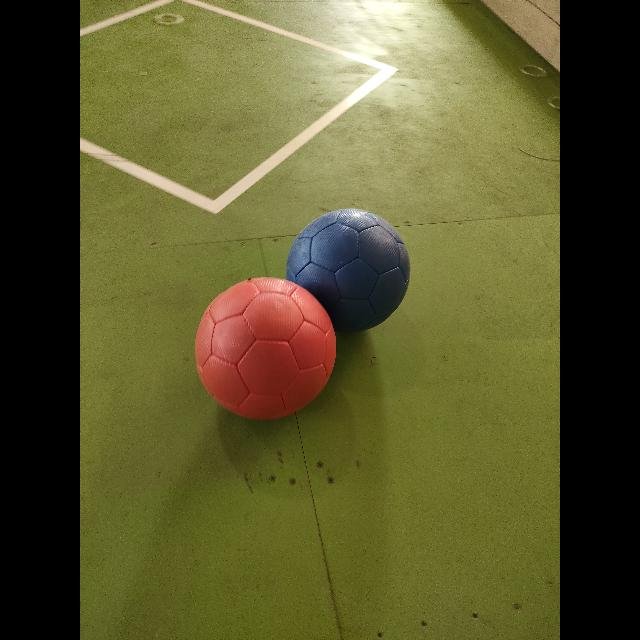B: (286, 209, 410, 331)
R: (195, 278, 336, 419)
